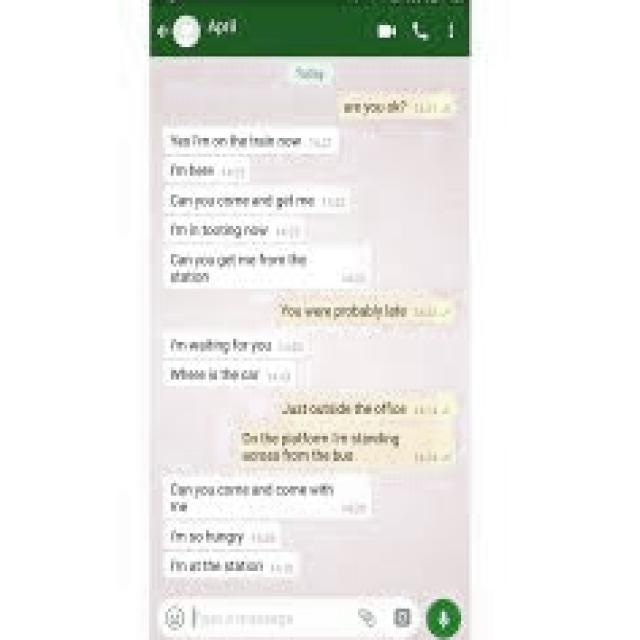scam: (166, 474, 347, 522), (165, 250, 322, 286), (162, 126, 308, 150), (168, 548, 268, 580), (166, 358, 266, 386), (162, 216, 268, 242), (163, 521, 244, 554), (165, 193, 321, 210), (168, 334, 272, 356), (164, 159, 222, 182)
